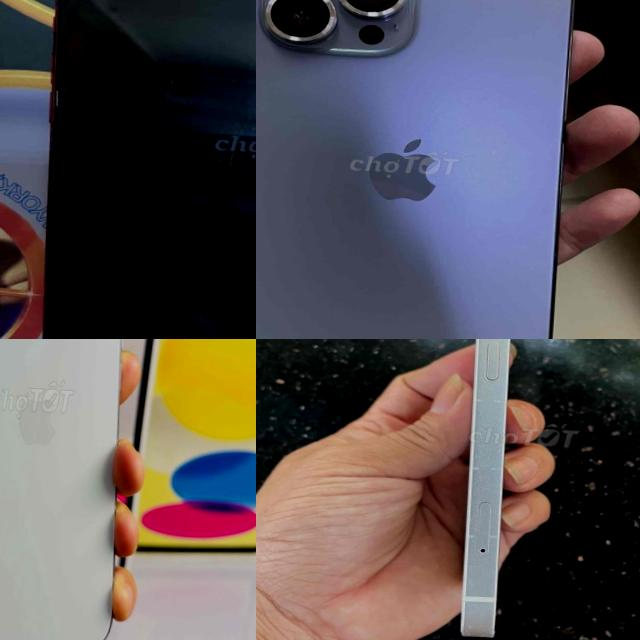gen_12_13: (256, 0, 582, 339), (441, 339, 530, 640)
gen_15: (0, 339, 142, 640)
gen_7_8: (20, 0, 256, 339)
